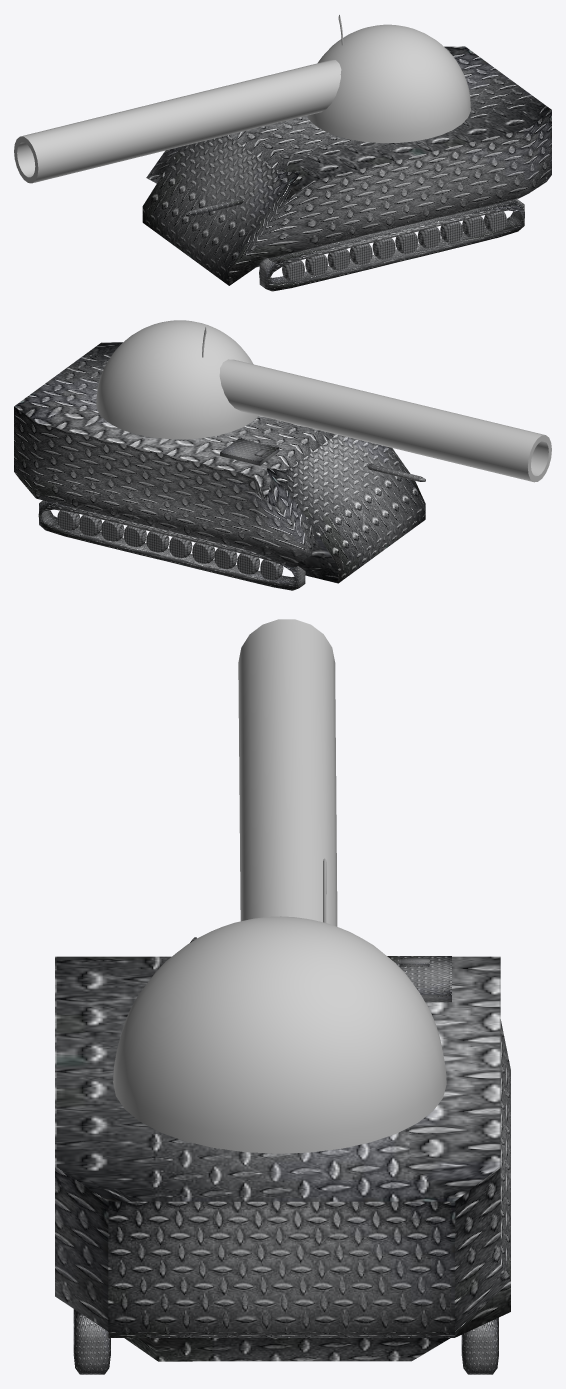
Rendered from tank.fbx.
3 renders of one model, top to bottom at view 1: azimuth 30°, elevation 25°; view 2: azimuth 150°, elevation 25°; view 3: azimuth 270°, elevation 25°, orthographic. The views are drawn at different scales.
Parts seen in each view (by area): view 1: Корпус, Дуло, Башня; view 2: Корпус, Дуло, Башня; view 3: Корпус, Башня, Дуло.
Part boxes in pixels (<box>): Корпус: <box>142,46,551,291</box>; Дуло: <box>14,60,341,183</box>; Башня: <box>307,15,470,143</box>; Корпус: <box>14,342,425,590</box>; Дуло: <box>219,359,551,482</box>; Башня: <box>96,320,258,439</box>; Корпус: <box>55,937,510,1374</box>; Башня: <box>113,858,446,1153</box>; Дуло: <box>238,619,337,926</box>.
Size of the model in its own units: 57.5 by 23.08 by 23.58.
